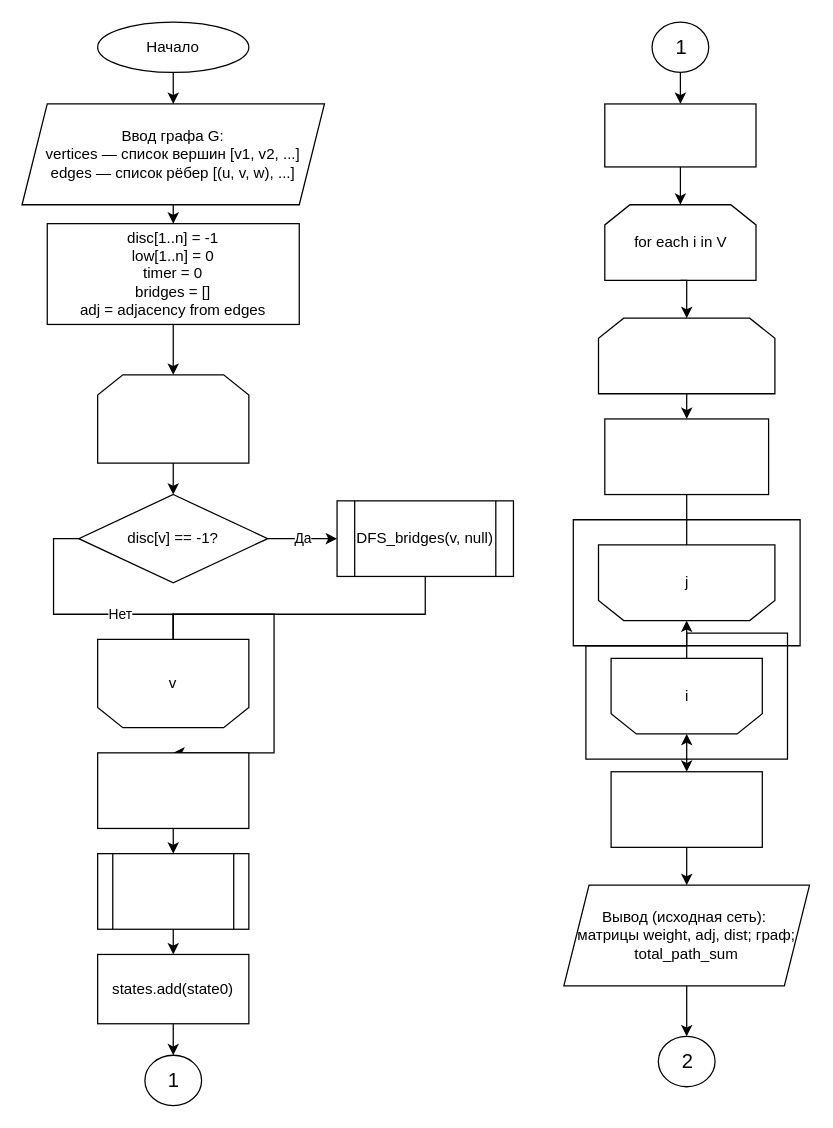
Some shapes in this 833 by 1128 pixel diagram are drawn without their labels. The centre of each missing label's shape, as x and y in pixels:
"for each j in i+1..n" belongs at point (686, 355).
"for each v in V" belongs at point (172, 418).
"state0 = build_state(G)" belongs at point (172, 890).
"states = []" belongs at point (172, 790).
"sum = 0" belongs at point (680, 135).
"sum = sum + state0.dist[i][j] (∞ ⇒ sum = ∞)" belongs at point (686, 456).
"total_path_sum = sum" belongs at point (686, 808).
